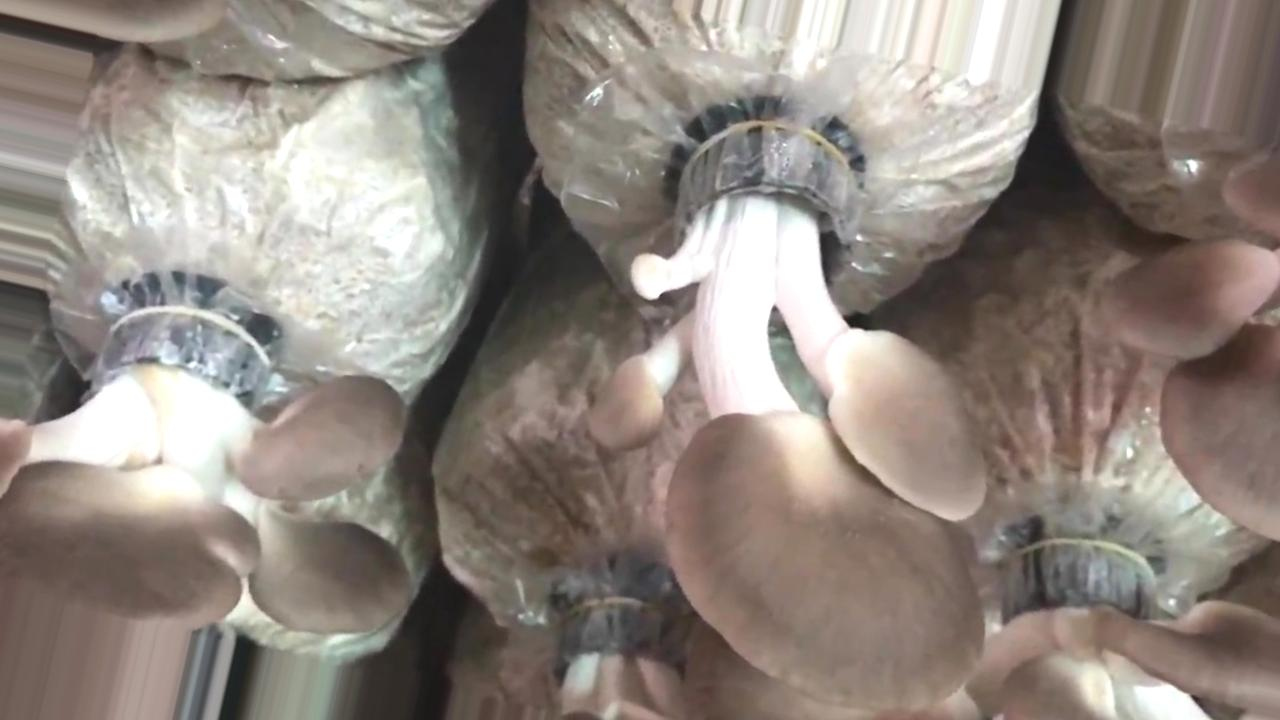nam: (582, 123, 982, 720), (1, 291, 411, 717), (1100, 152, 1280, 534), (966, 525, 1280, 718)
